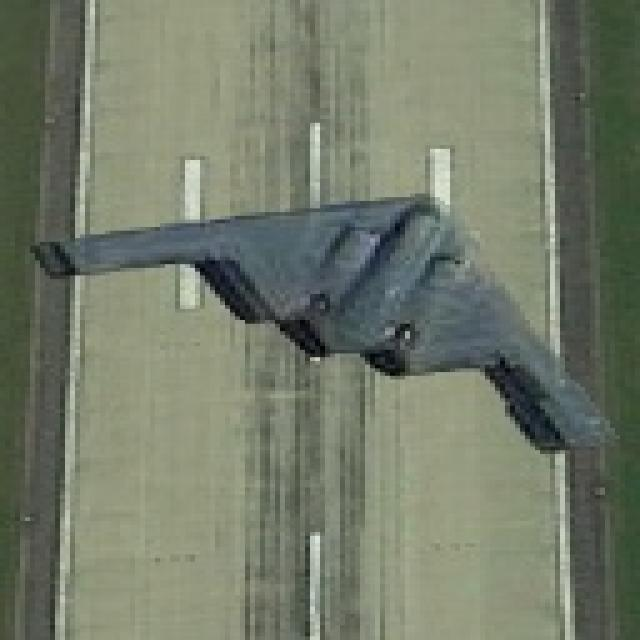B-2_TopDown: (25, 182, 620, 454)
